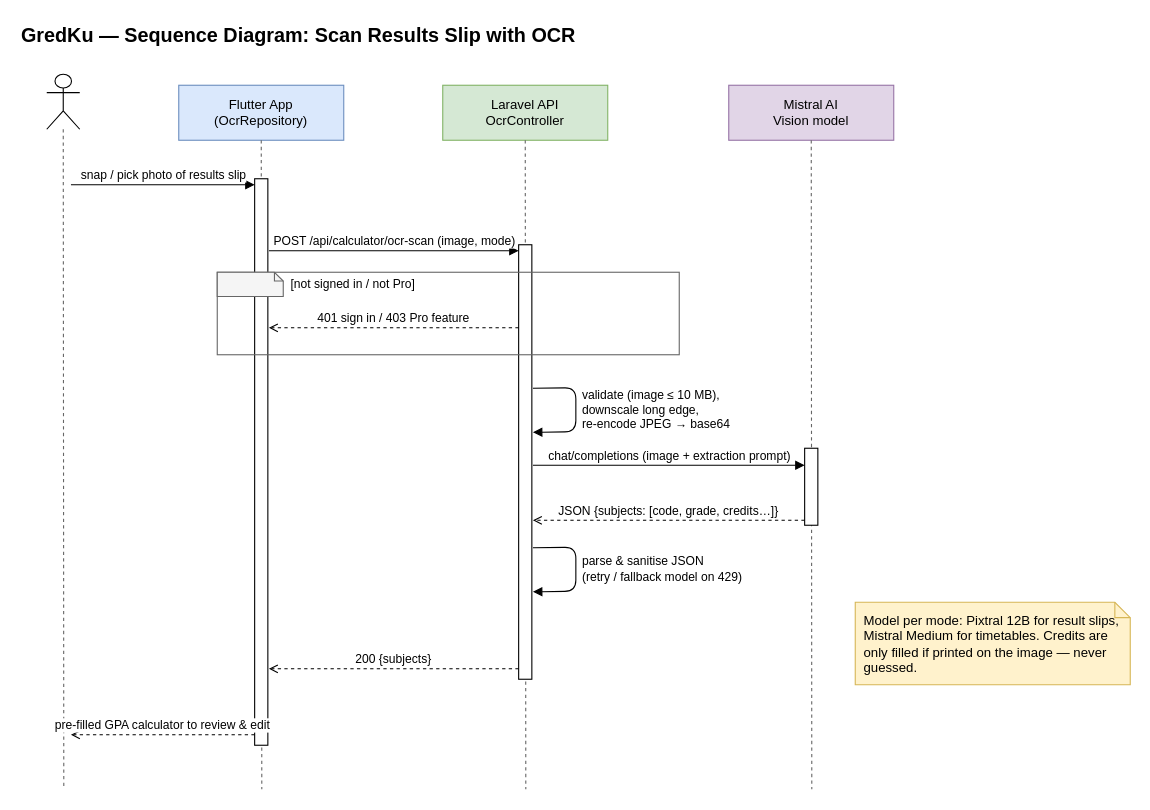
This 1150x810 diagram has some shape labels left out. Here are the shapes that lost their labels. From the top down, the centre of each, then its label:
pixel 63 101: Student
pixel 249 283: alt
